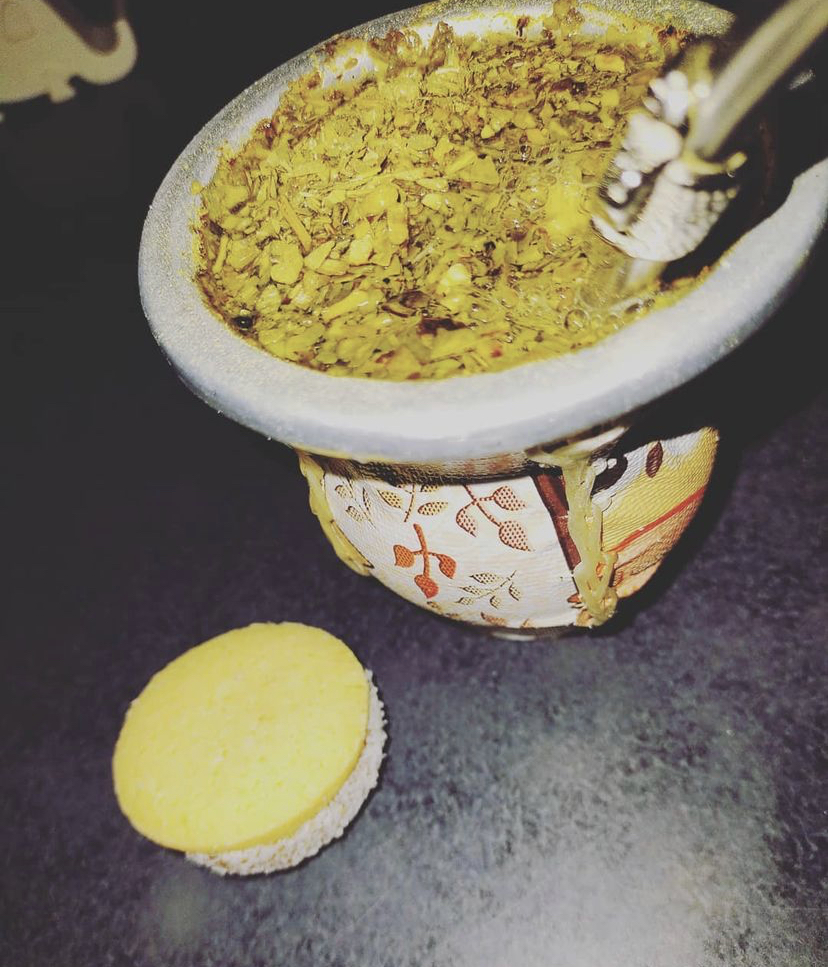mate: (125, 5, 828, 649)
